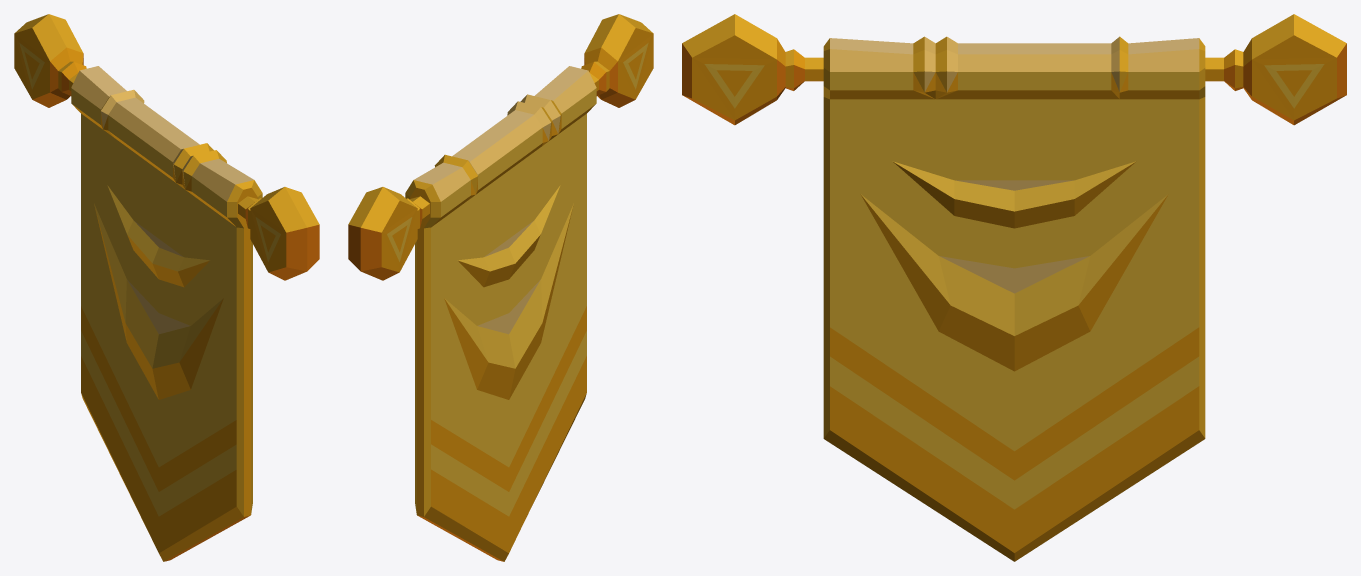
Rendered from Prop_Banner_Bank_Small.fbx.
The picture shows the model from 3 angles, left to right: view 1: azimuth 30°, elevation 25°; view 2: azimuth 150°, elevation 25°; view 3: azimuth 270°, elevation 25°; orthographic projection. The views are drawn at different scales.
Parts seen in each view (by area): view 1: MODEL_Banner_Bank_Small; view 2: MODEL_Banner_Bank_Small; view 3: MODEL_Banner_Bank_Small.
Boxes of the visible parts, x1=… form: MODEL_Banner_Bank_Small: x1=14, y1=14, x2=319, y2=561; MODEL_Banner_Bank_Small: x1=348, y1=14, x2=653, y2=561; MODEL_Banner_Bank_Small: x1=682, y1=14, x2=1346, y2=561.
Bounding box in the file's own units: 76.25 × 772 × 852.
